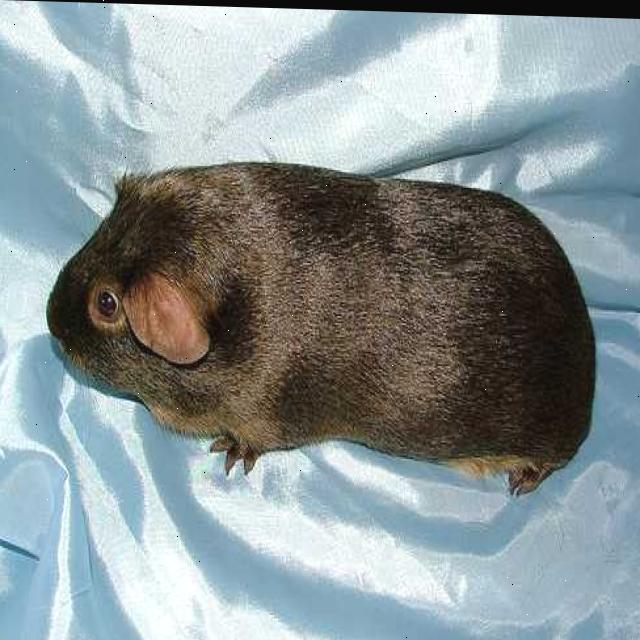guinea pig: (50, 164, 587, 481)
